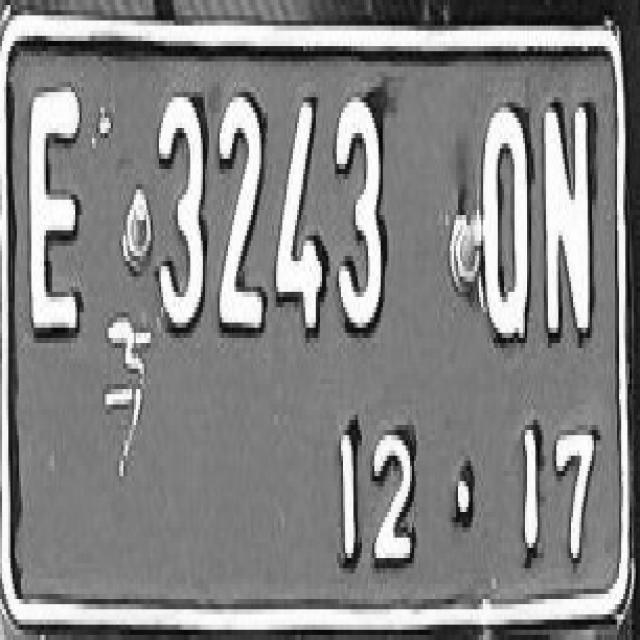2: (218, 80, 272, 344)
3: (150, 83, 214, 339), (330, 88, 384, 349)
4: (270, 89, 332, 343)
E: (20, 76, 104, 334)
N: (540, 103, 596, 343)
Q: (473, 98, 533, 347)
